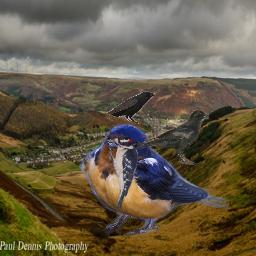Crow: (138, 109, 209, 165), (106, 91, 156, 124)
Swallow: (79, 123, 228, 237)
Woodpecker: (106, 134, 139, 210)
